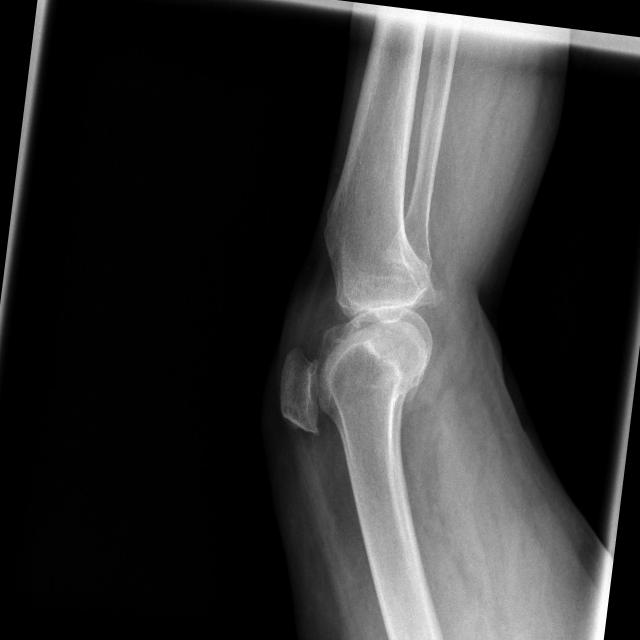Knee: (274, 255, 441, 449)
